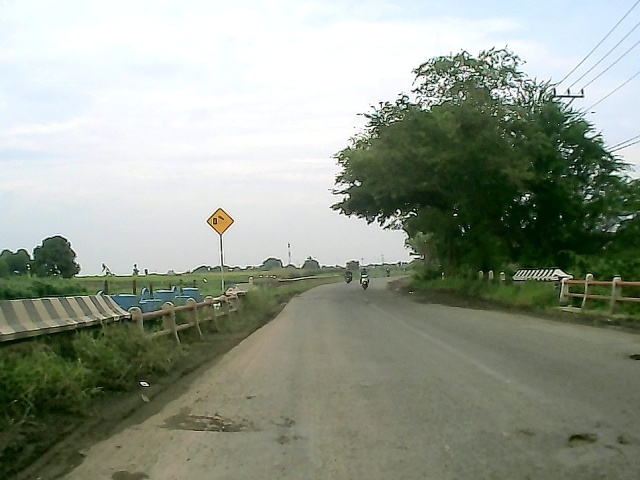Peringatan tepi air: (205, 207, 234, 234)
